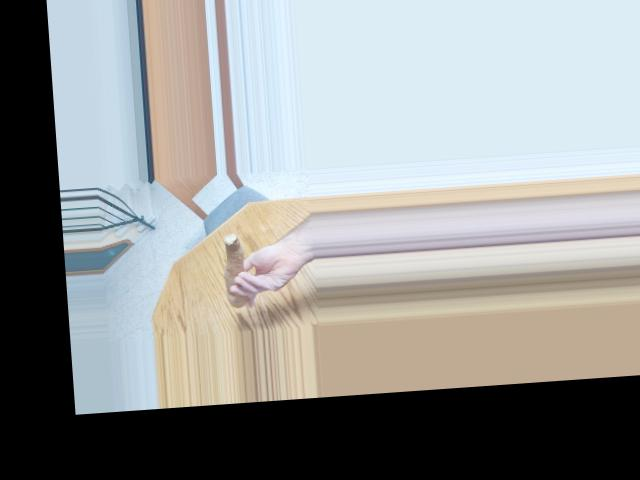sweet_potato: (216, 237, 252, 304)
